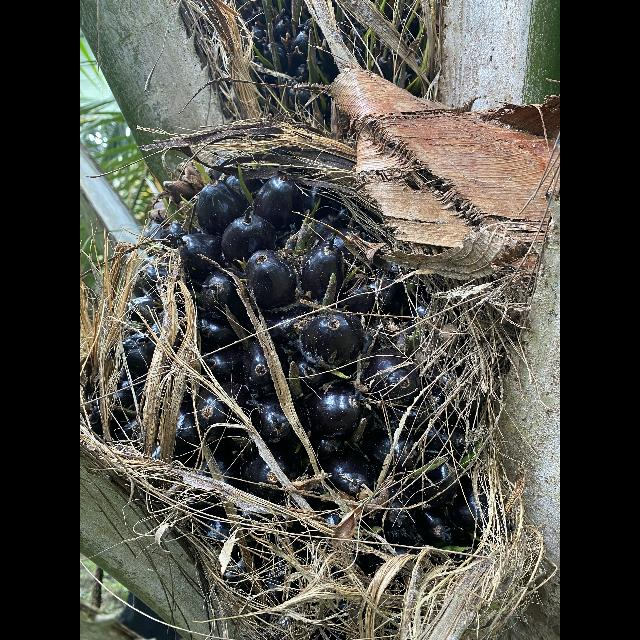Unripe: (109, 165, 461, 586)
